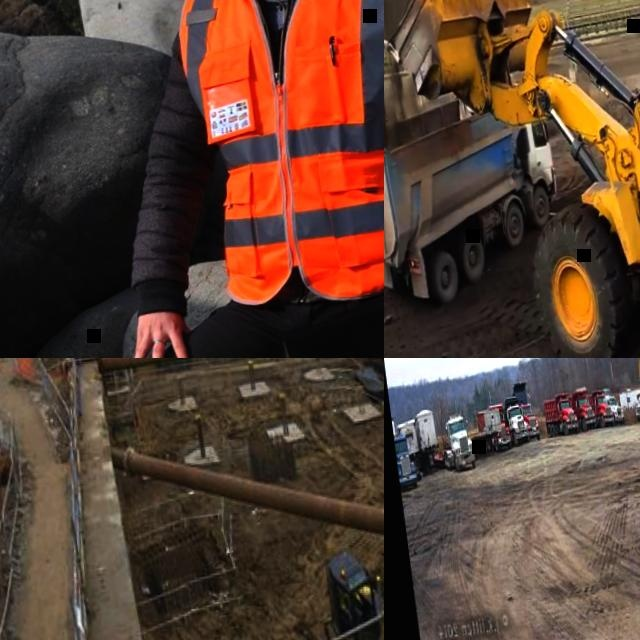Person: (0, 0, 384, 358)
Safety Vest: (175, 0, 384, 311)
machinery: (384, 0, 640, 358), (384, 73, 570, 319), (312, 536, 384, 640), (509, 380, 540, 443), (541, 390, 578, 439), (501, 395, 530, 448), (565, 385, 595, 433), (486, 402, 511, 449), (585, 388, 613, 429), (601, 385, 624, 424), (631, 387, 640, 424)
vehicle: (427, 409, 476, 477), (390, 414, 418, 491)
